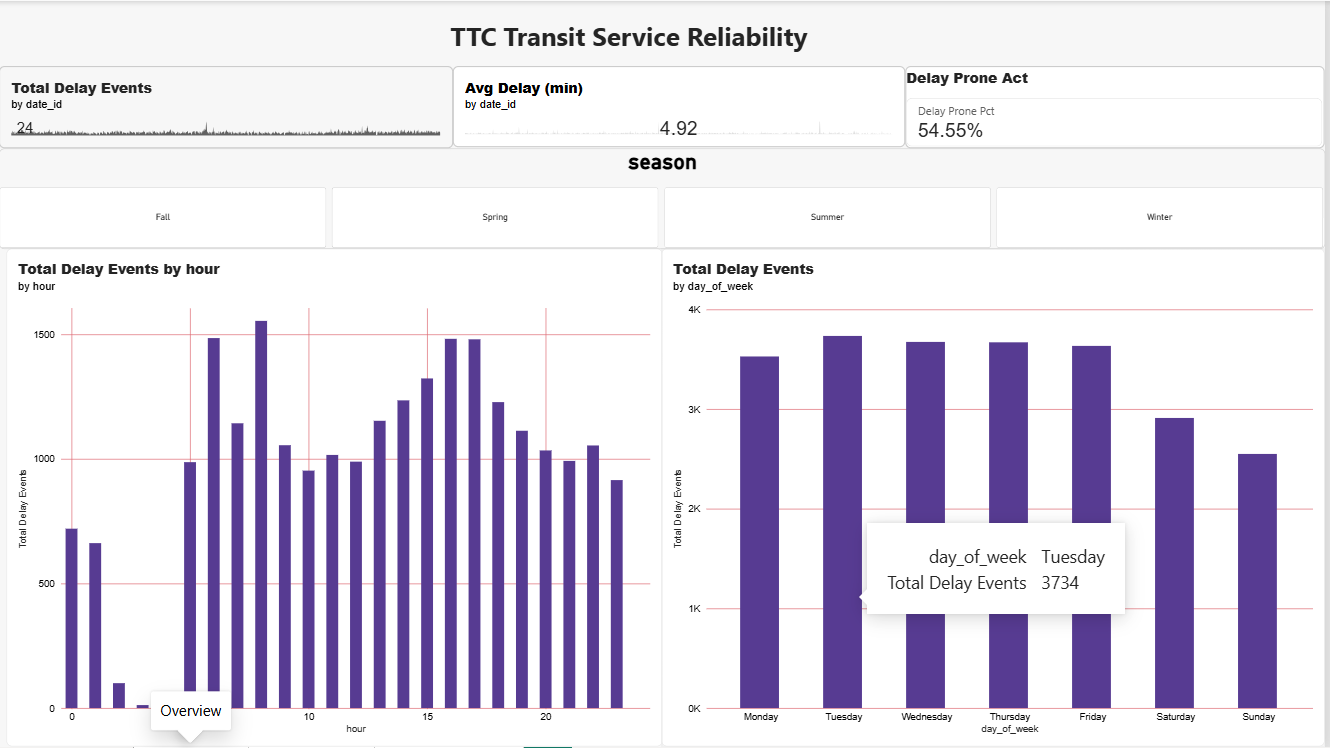

What the dashboard file says about the page in this screenshot:
{"tool":"powerbi","page":{"name":"Overview","canvas":[1920,1080],"ordinal":0},"visuals":[{"type":"kpi","fields":{"Indicator":["fact_delay_events.Total Delay Events"],"TrendLine":["dim_date.date_id"]},"box":[0,95,657.2,119.3],"z":0},{"type":"kpi","fields":{"Indicator":["fact_delay_events.Avg Delay (min)"],"TrendLine":["dim_date.date_id"]},"box":[657.2,95,655.4,117.3],"z":1000},{"type":"clusteredColumnChart","fields":{"Category":["fact_delay_events.hour"],"Y":["fact_delay_events.Total Delay Events"]},"box":[10.7,359.2,949.3,720.5],"z":2000},{"type":"clusteredColumnChart","fields":{"Category":["dim_date.day_of_week"],"Y":["fact_delay_events.Total Delay Events"]},"box":[960,359.2,960,720.5],"z":3000},{"type":"advancedSlicerVisual","fields":{"Values":["dim_date.season"]},"box":[0,214.1,1919.7,145.2],"z":4000},{"type":"textbox","box":[400.3,26.1,1024.1,70.8],"z":5000},{"type":"cardVisual","title":"Delay Prone Act","fields":{"Data":["fact_delay_events.Delay Prone Pct"]},"box":[1312.7,95,607,119.2],"z":6000}]}

Visuals, with their boxes in screenshot pixels (x1, y1, x2, y2), scaled from the page's 1920x1080 canvas onto the 1330x748 screenshot:
kpi - fact_delay_events.Total Delay Events x dim_date.date_id: (x1=0, y1=66, x2=455, y2=148)
kpi - fact_delay_events.Avg Delay (min) x dim_date.date_id: (x1=455, y1=66, x2=909, y2=147)
clusteredColumnChart - fact_delay_events.hour x fact_delay_events.Total Delay Events: (x1=7, y1=249, x2=665, y2=747)
clusteredColumnChart - dim_date.day_of_week x fact_delay_events.Total Delay Events: (x1=665, y1=249, x2=1329, y2=747)
advancedSlicerVisual - dim_date.season: (x1=0, y1=148, x2=1329, y2=249)
textbox: (x1=277, y1=18, x2=987, y2=67)
"Delay Prone Act" cardVisual: (x1=909, y1=66, x2=1329, y2=148)
